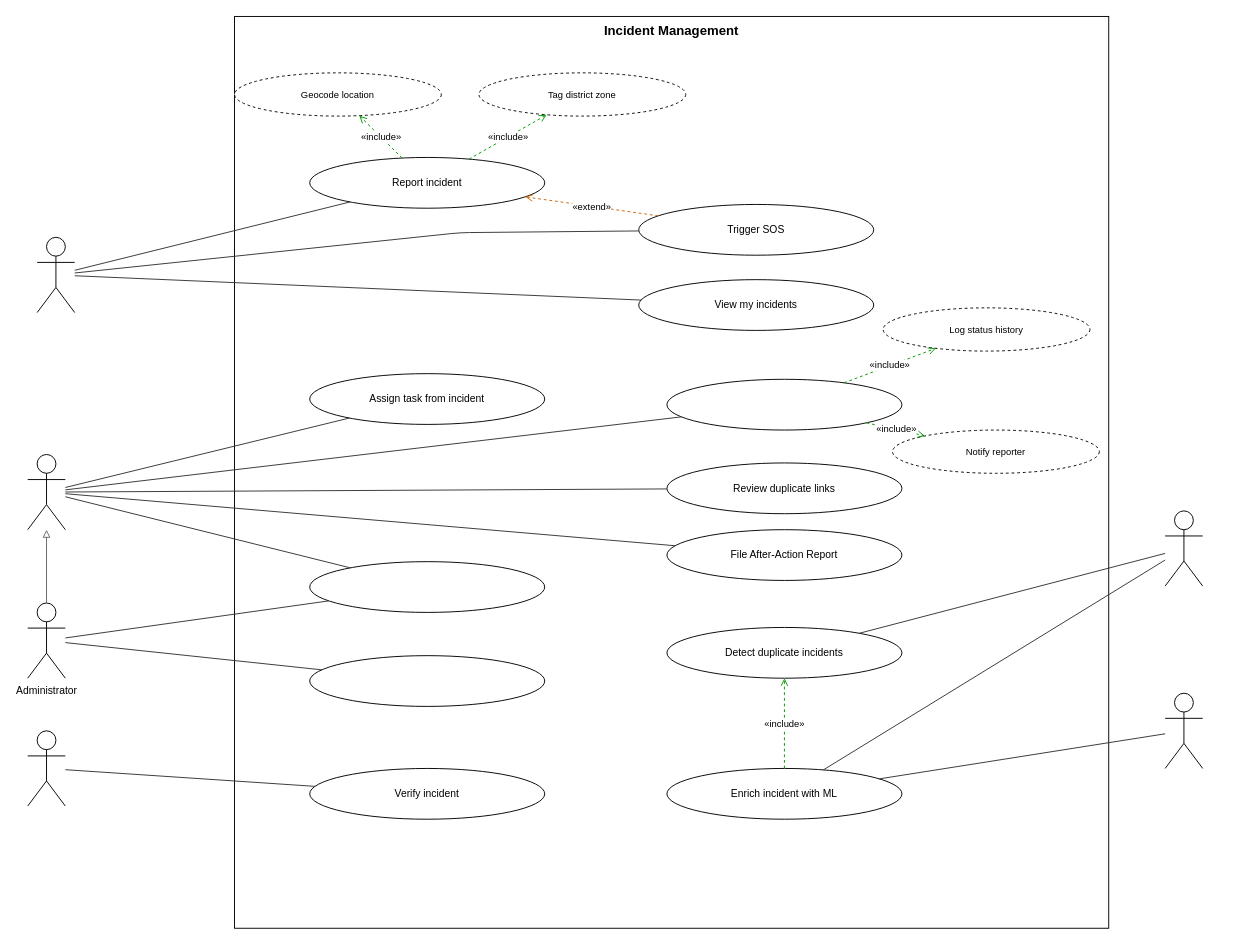
Image size: 1242x945. Some labels were removed from this diagram. Each missing label, with the centre of its shape:
Citizen: the point at 55,274
Delete incident: the point at 427,680
DMC Officer: the point at 46,492
Local Verifier: the point at 46,768
ML Service: the point at 1183,730
System Scheduler: the point at 1183,548
Update incident status: the point at 784,404
View incident list / detail: the point at 427,586
